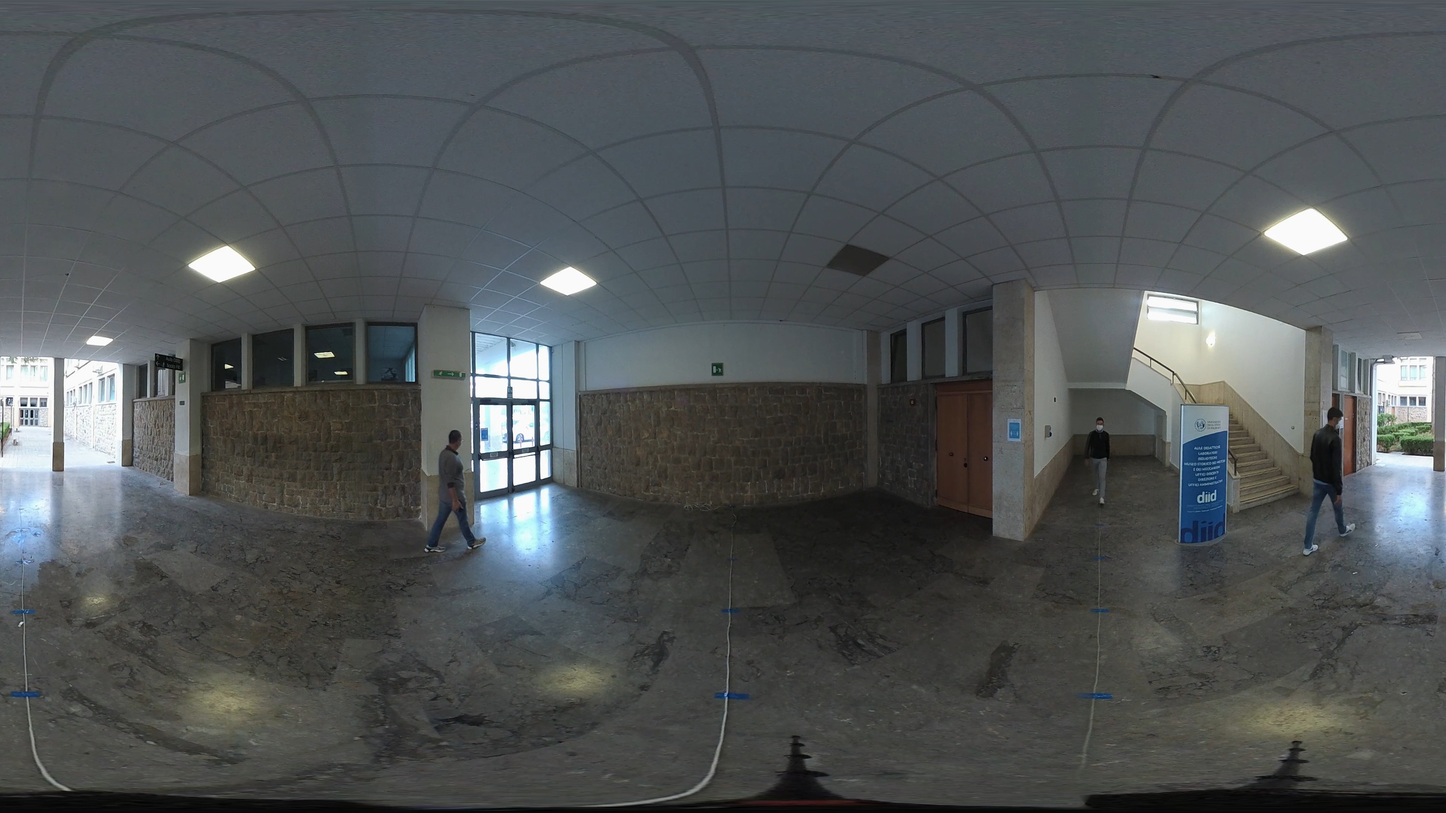Person: (1303, 405, 1356, 554), (426, 430, 483, 553), (1086, 416, 1111, 505)
